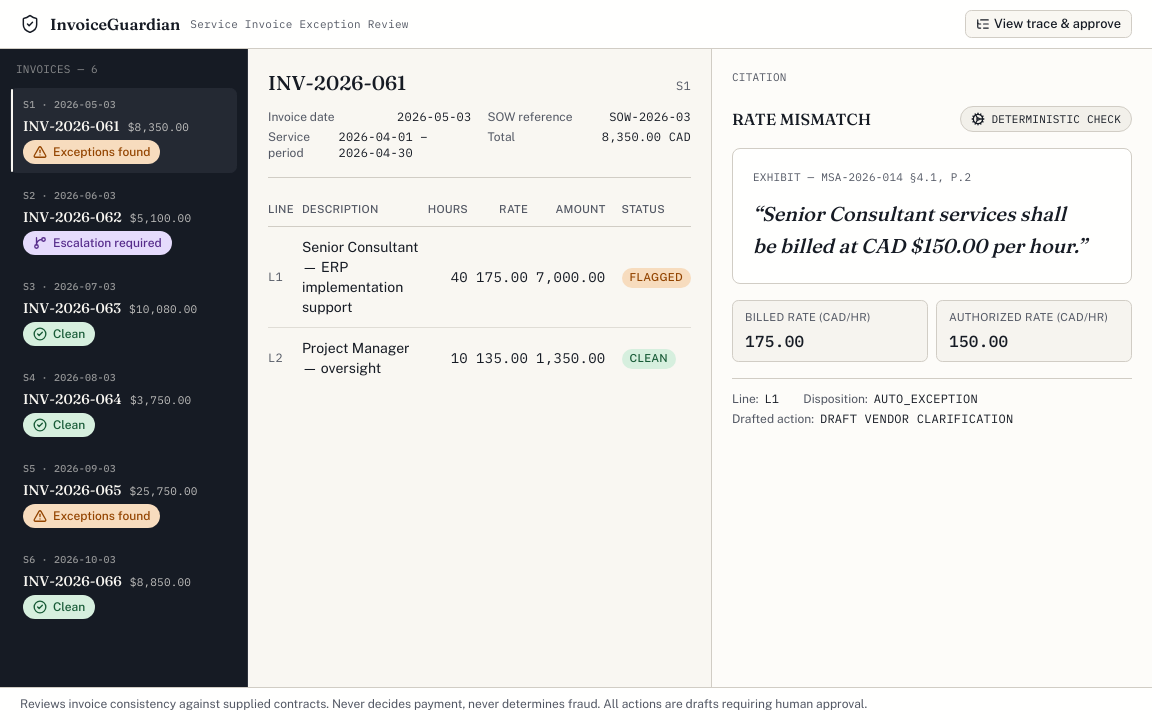
Test: AppShell — all six scenarios › loads and renders every scenario without error when selected in turn
Expected: the heading "INV-2026-061" is shown, [268, 69, 406, 97]
Click the button "S1 · 2026-05-03 INV-2026-061 $8,350.00 Exceptions found": (124, 130) [10, 88, 237, 172]
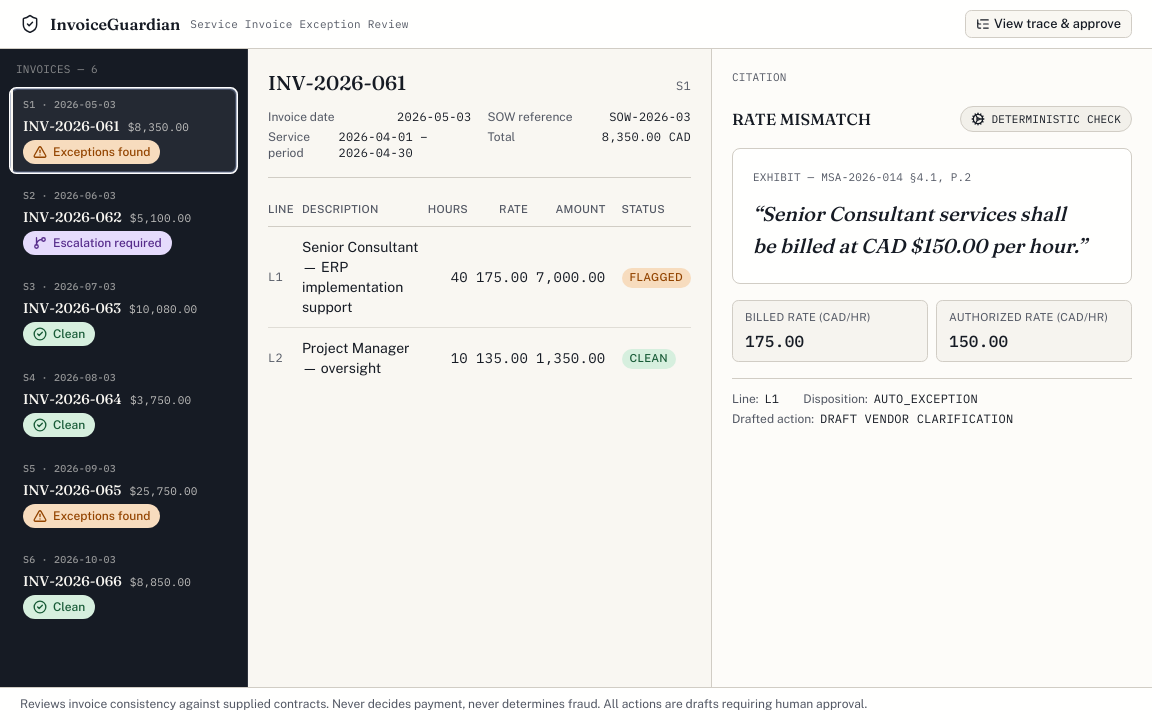
Expected: the heading "INV-2026-061" is shown, [268, 69, 406, 97]
Click the button "S2 · 2026-06-03 INV-2026-062 $5,100.00 Escalation required": (124, 221) [10, 178, 237, 264]
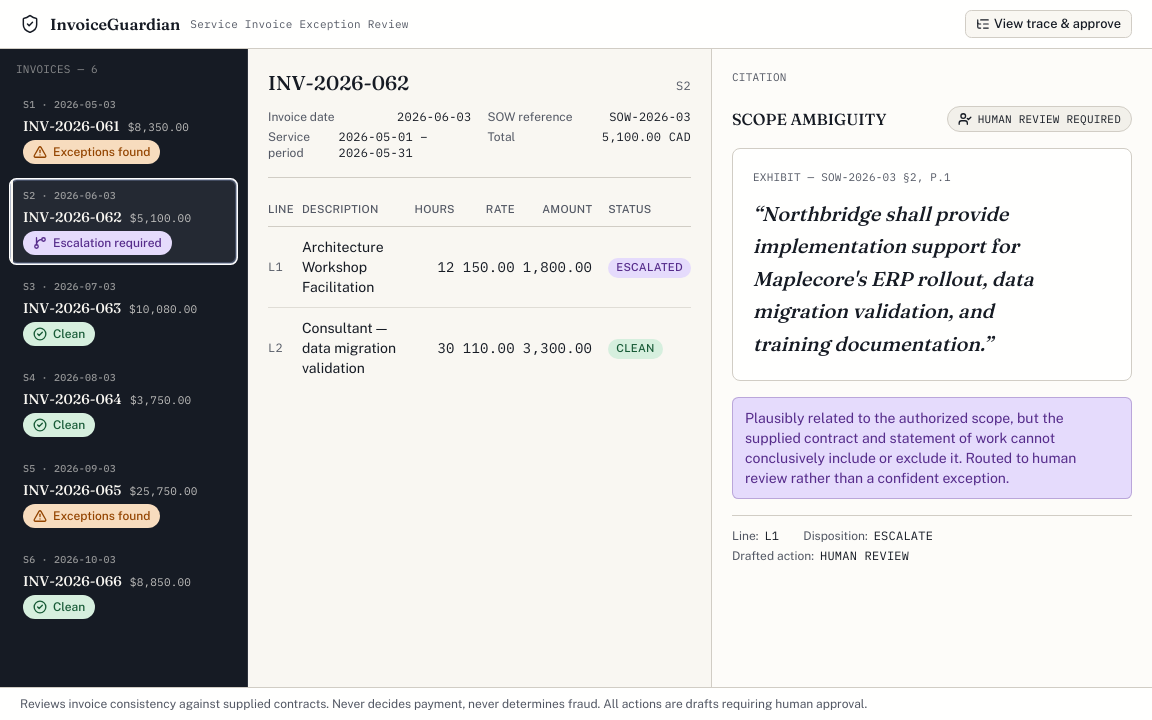
Now the heading "INV-2026-062" is shown, box [268, 69, 409, 97]
Click the button "S3 · 2026-07-03 INV-2026-063 $10,080.00 Clean": (124, 312) [10, 270, 237, 354]
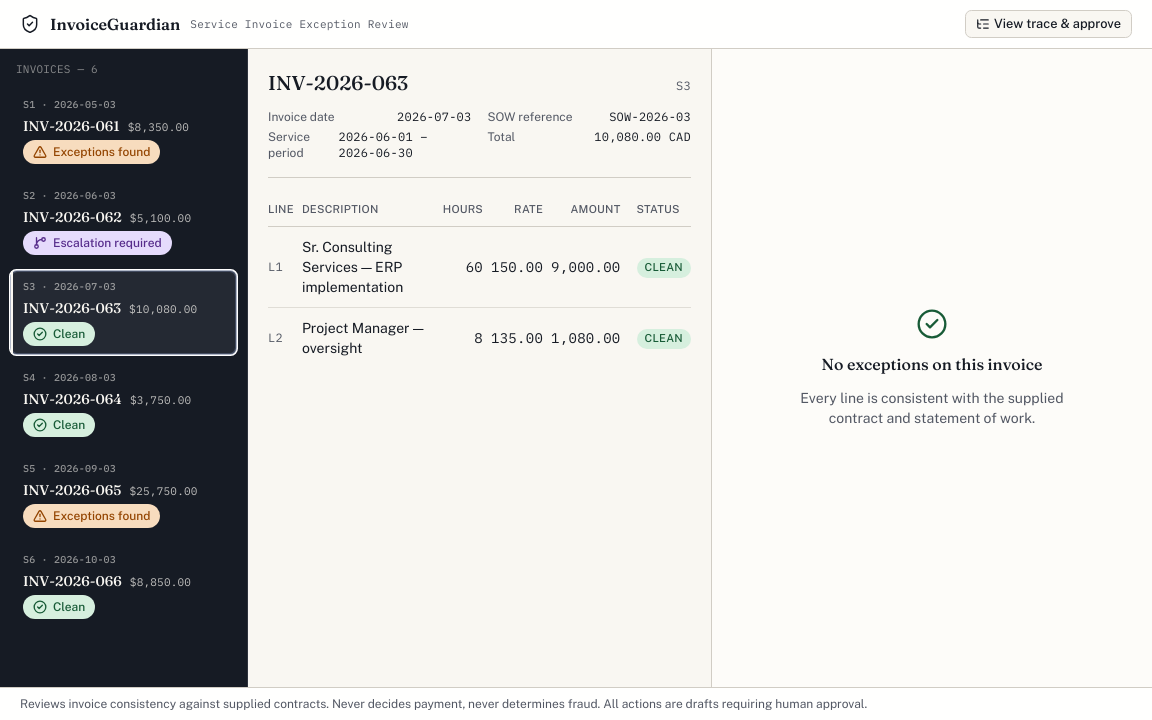
Now the heading "INV-2026-063" is shown, box [268, 69, 408, 97]
Click the button "S4 · 2026-08-03 INV-2026-064 $3,750.00 Clean": (124, 403) [10, 360, 237, 446]
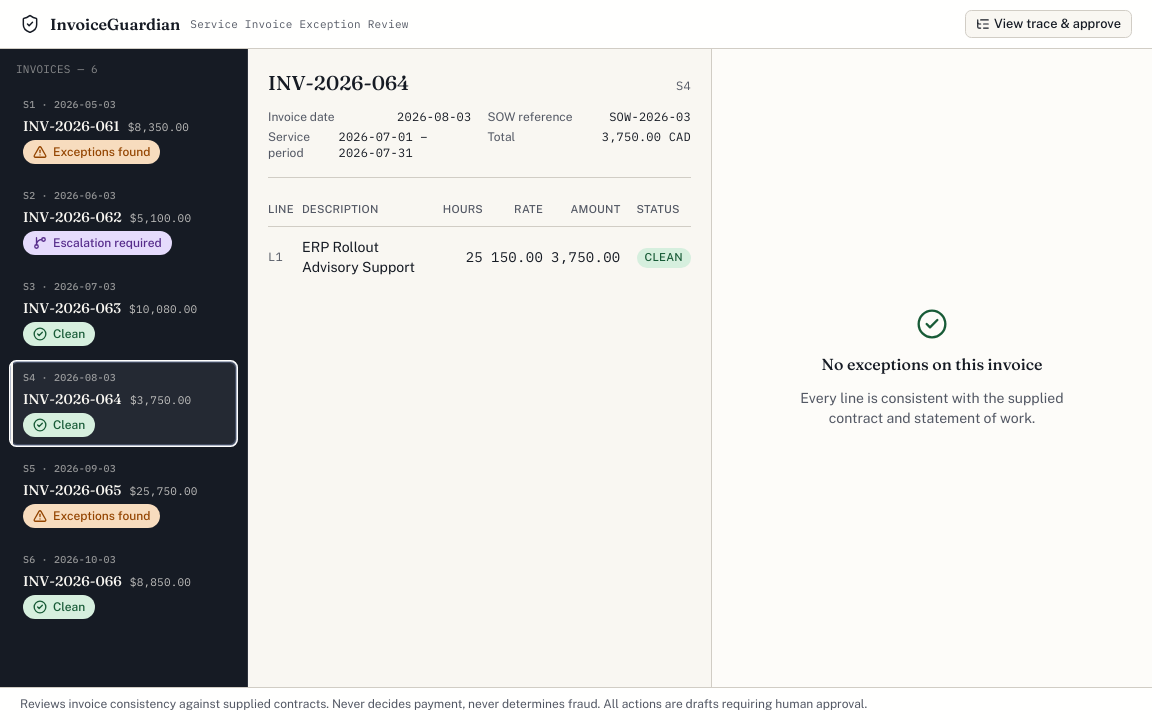
Now the heading "INV-2026-064" is shown, box [268, 69, 409, 97]
Click the button "S5 · 2026-09-03 INV-2026-065 $25,750.00 Exceptions found": (124, 494) [10, 452, 237, 536]
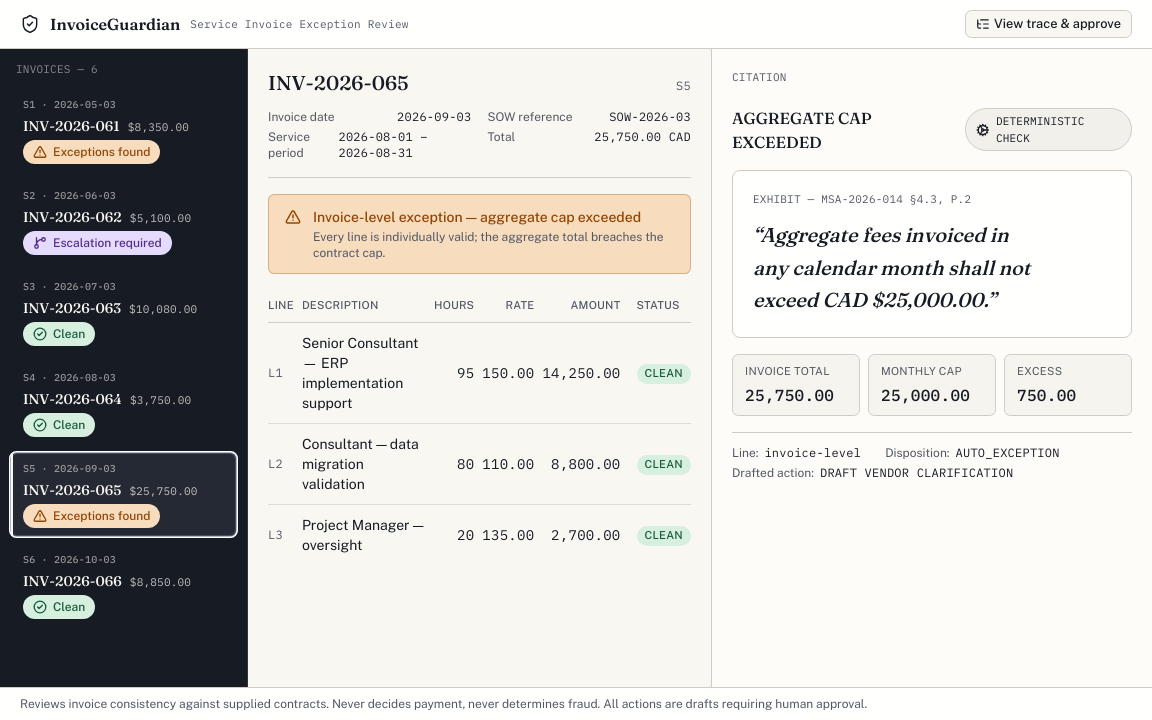
Now the heading "INV-2026-065" is shown, box [268, 69, 409, 97]
Click the button "S6 · 2026-10-03 INV-2026-066 $8,850.00 Clean": (124, 585) [10, 542, 237, 628]
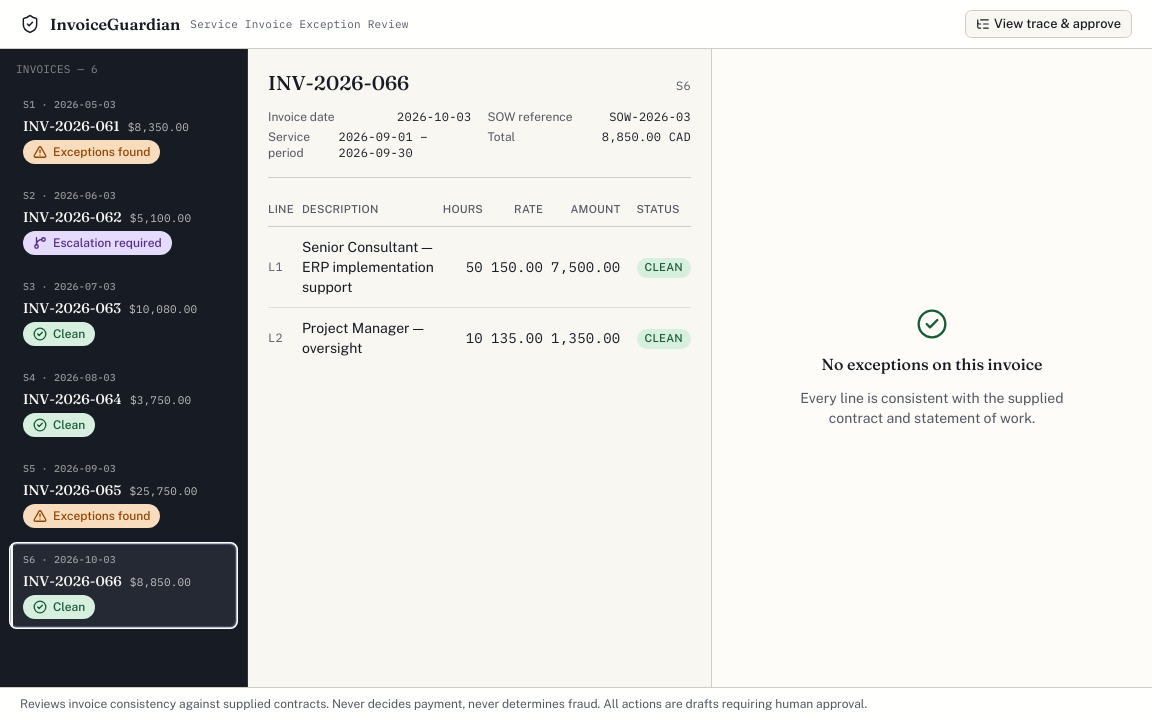
Now the heading "INV-2026-066" is shown, box [268, 69, 409, 97]
